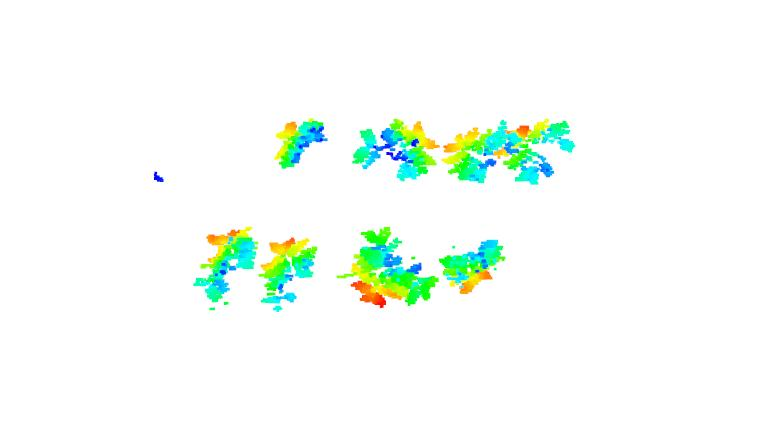chickpea: (341, 226, 437, 307), (350, 116, 439, 184), (193, 227, 260, 311), (498, 117, 574, 187), (261, 231, 318, 311), (438, 237, 507, 295), (442, 121, 502, 185), (273, 116, 329, 173)
